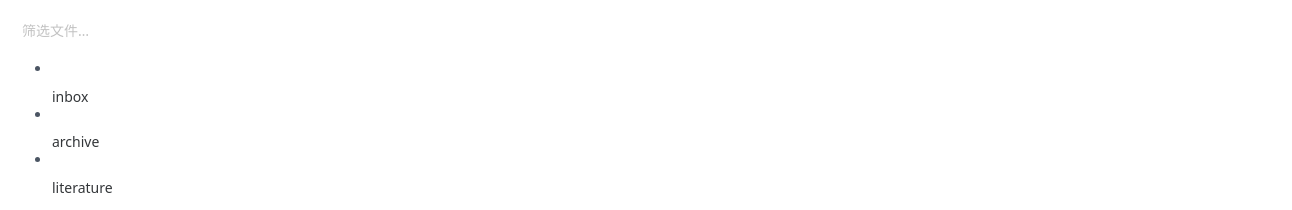
Test: Files filter › keeps matching ancestors visible and auto-expands them without persisting
In the field with class "search-input": (652, 30) 22,16 -> 1282,44, type "redis-note"
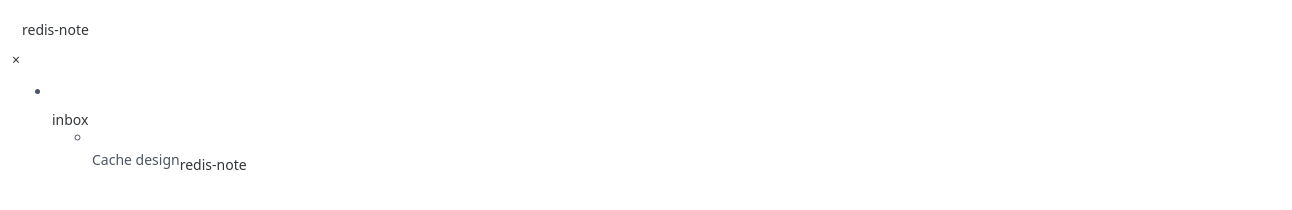
expect the text "inbox" is shown: met, box 52,113 -> 88,127
expect the text "redis-note" is shown: met, box 180,158 -> 247,172
